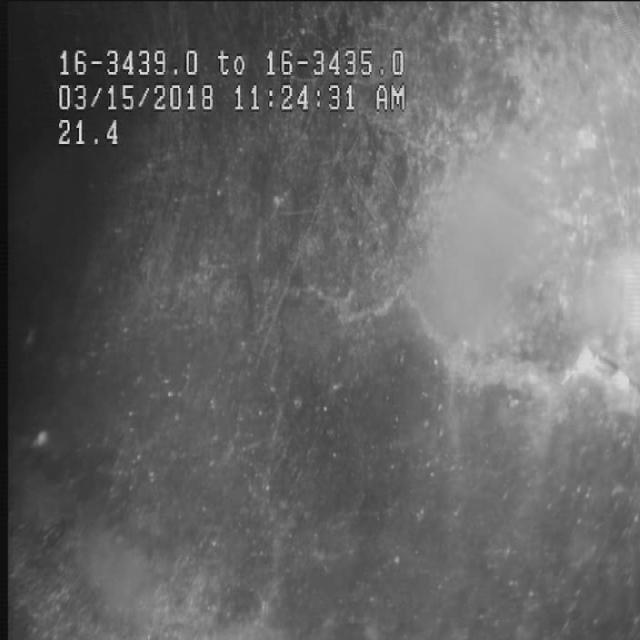Crack: (289, 257, 626, 410)
